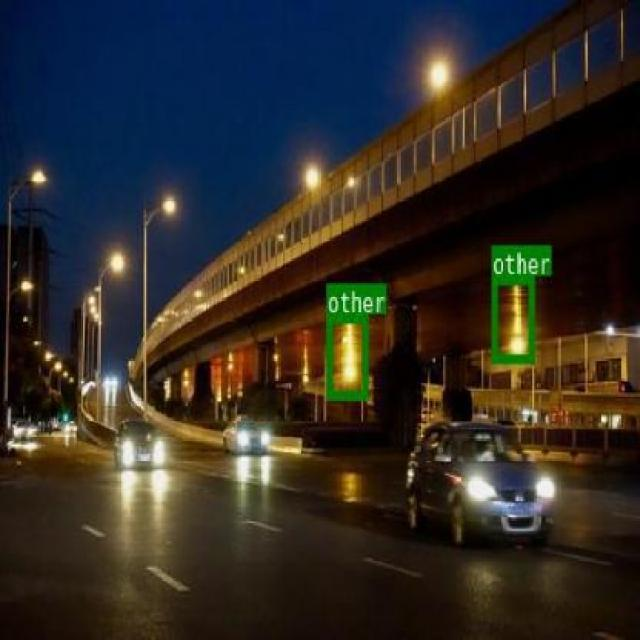other: (492, 276, 534, 362), (325, 314, 367, 398)
